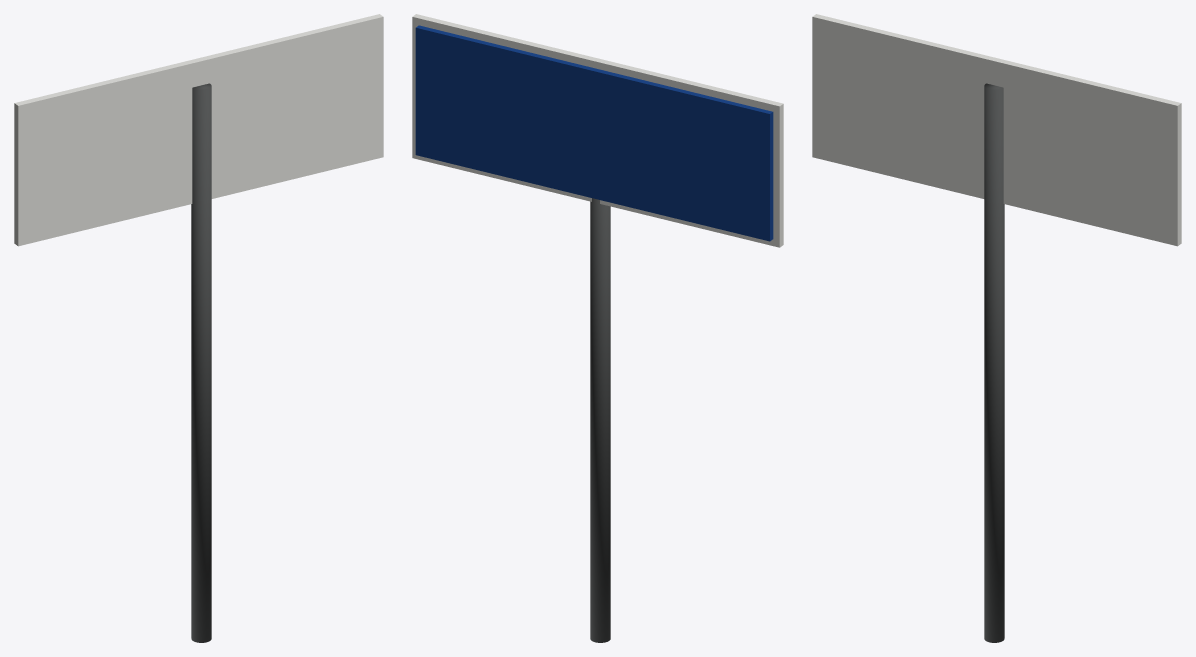
The model's file is RoadSign.fbx.
3 renders of one model, left to right at view 1: azimuth 30°, elevation 25°; view 2: azimuth 150°, elevation 25°; view 3: azimuth 330°, elevation 25°, orthographic.
Parts seen in each view (by area): view 1: Border, Post; view 2: Board, Post, Border; view 3: Border, Post.
Boxes of the visible parts, x1,y1,x2,y2 form: Border: (14, 14, 383, 246); Post: (191, 83, 211, 642); Board: (415, 25, 773, 241); Post: (590, 198, 610, 642); Border: (412, 14, 783, 247); Border: (812, 14, 1181, 246); Post: (984, 83, 1004, 642).
Bounding box in the file's own units: 166 × 10 × 250.
